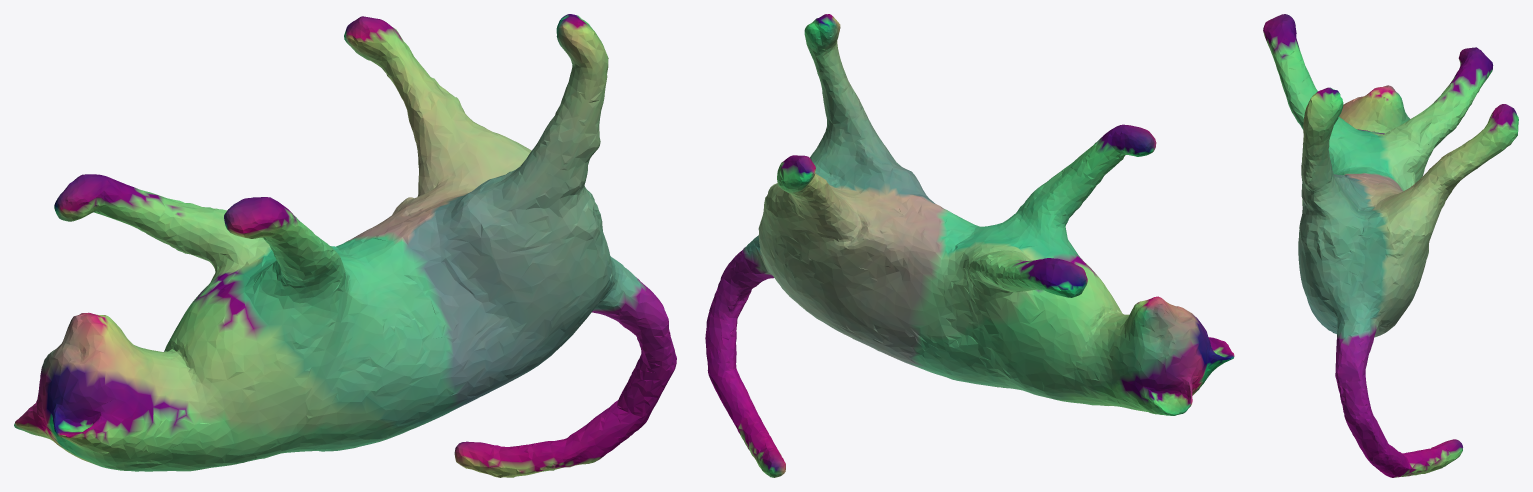
The model's file is cat-9.off.obj.
The picture shows the model from 3 angles, left to right: view 1: azimuth 30°, elevation 25°; view 2: azimuth 150°, elevation 25°; view 3: azimuth 270°, elevation 25°; orthographic projection. The views are drawn at different scales.
Size of the model in its own units: 1.66 by 1.28 by 0.779.
